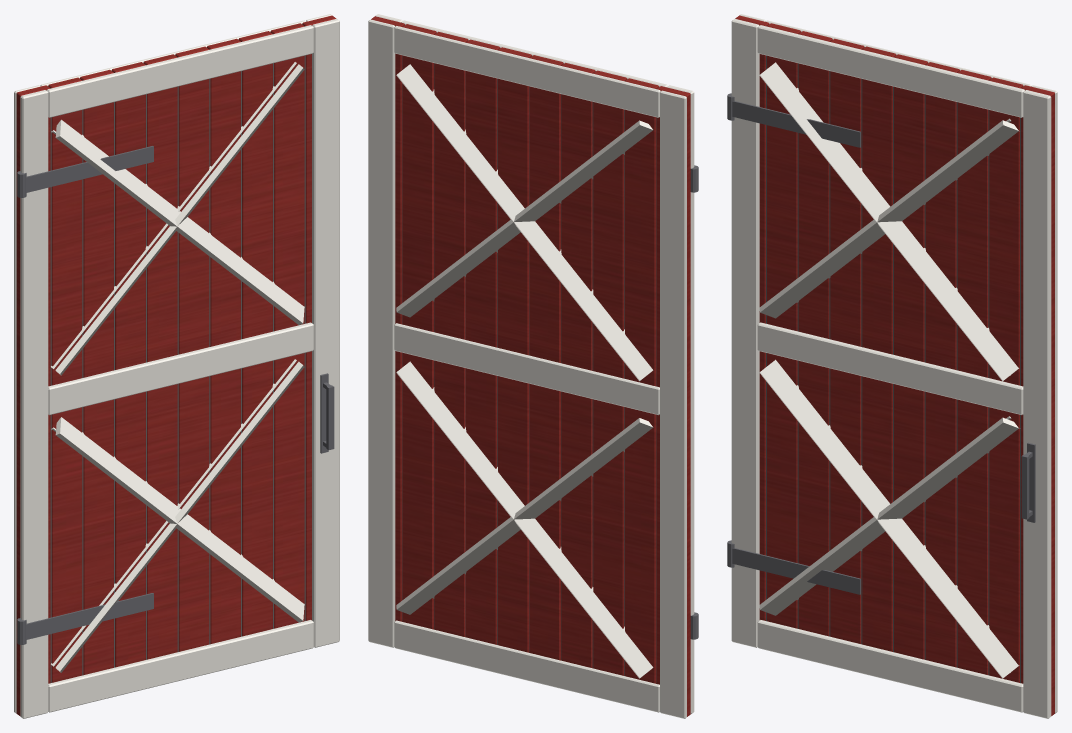
File: barn_door_leaf.glb
3 views of the same model, side by side, from view 1: azimuth 30°, elevation 25°; view 2: azimuth 150°, elevation 25°; view 3: azimuth 330°, elevation 25° (orthographic).
Visible parts, largest first — view 1: barn_door_leaf_barn, barn_door_leaf_trim, barn_door_leaf_dark, barn_door_leaf_iron; view 2: barn_door_leaf_barn, barn_door_leaf_trim, barn_door_leaf_dark; view 3: barn_door_leaf_barn, barn_door_leaf_trim, barn_door_leaf_dark, barn_door_leaf_iron.
Boxes of the visible parts, box(x1,y1,x2,y2) form: barn_door_leaf_barn: box(16, 15, 336, 715); barn_door_leaf_trim: box(14, 14, 339, 718); barn_door_leaf_dark: box(50, 55, 305, 682); barn_door_leaf_iron: box(17, 146, 334, 644); barn_door_leaf_barn: box(371, 16, 690, 716); barn_door_leaf_trim: box(368, 14, 694, 718); barn_door_leaf_dark: box(402, 55, 656, 683); barn_door_leaf_barn: box(735, 15, 1054, 715); barn_door_leaf_trim: box(731, 14, 1057, 718); barn_door_leaf_dark: box(766, 55, 1020, 683); barn_door_leaf_iron: box(727, 93, 1035, 594).
Size of the model in its own units: 1.73 by 3.2 by 0.1981.
Materials: 4 (1 with a texture image).
